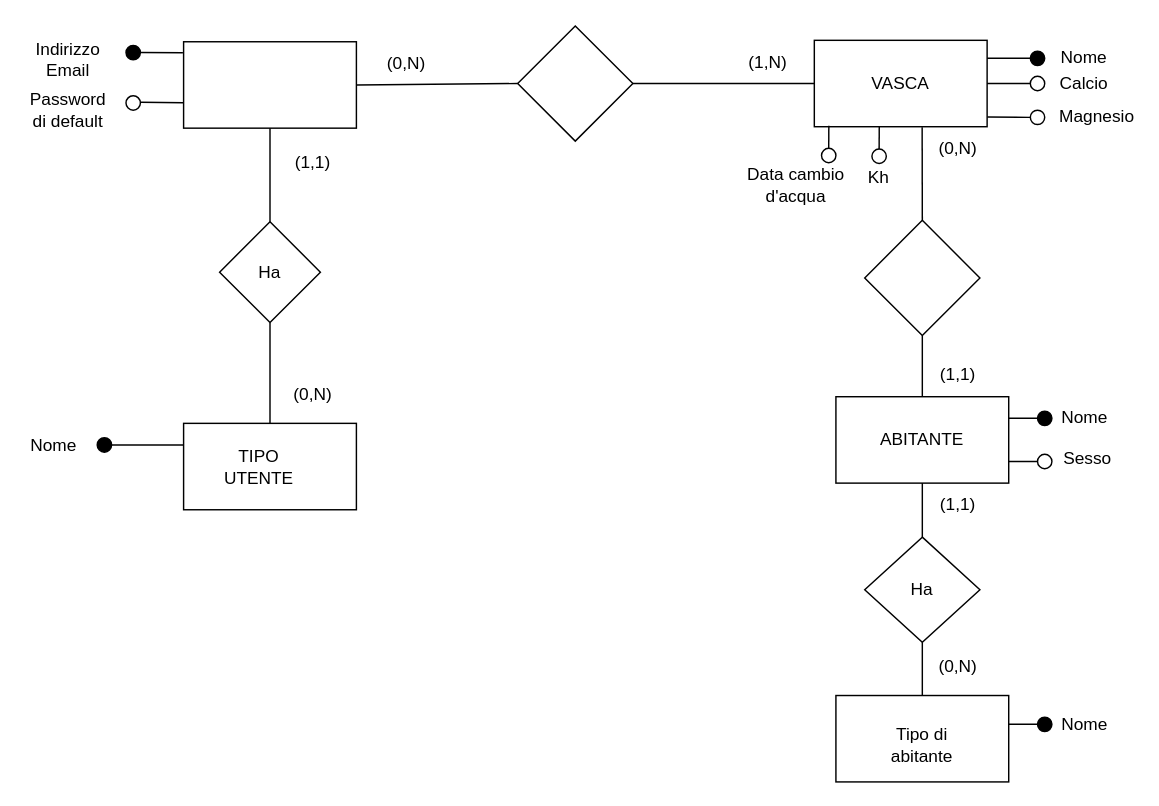
Some shapes in this 1159 by 806 pixel diagram are drawn without their labels. Here are the shapes that lost their labels. From the top down, the centre of each, then its label:
At point (269, 84): "UTENTE".
At point (574, 82): "Gestisce".
At point (921, 277): "Contiene".
